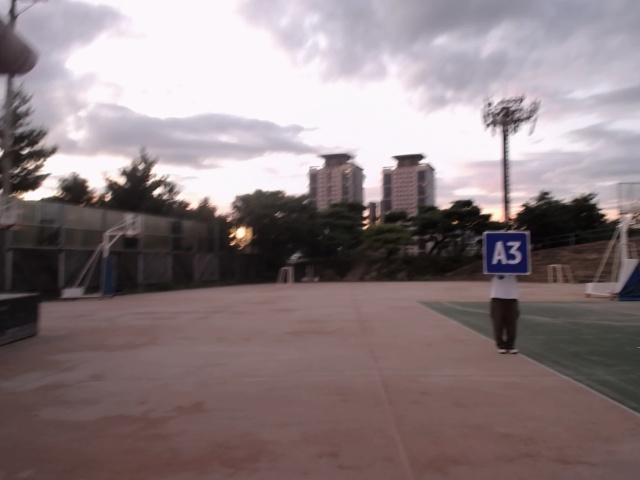delivery_a3: (484, 232, 530, 275)
